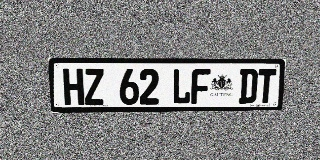2: (139, 69, 159, 105)
6: (119, 69, 139, 105)
D: (238, 69, 258, 104)
F: (191, 69, 210, 104)
H: (63, 69, 84, 105)
L: (172, 69, 191, 104)
T: (256, 69, 276, 103)
Z: (83, 69, 104, 105)
